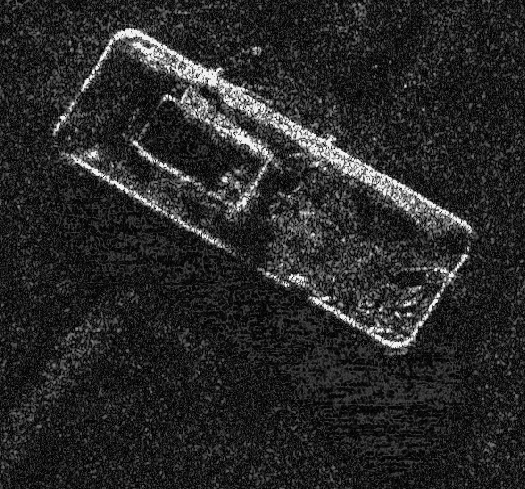ship: (47, 23, 477, 362)
